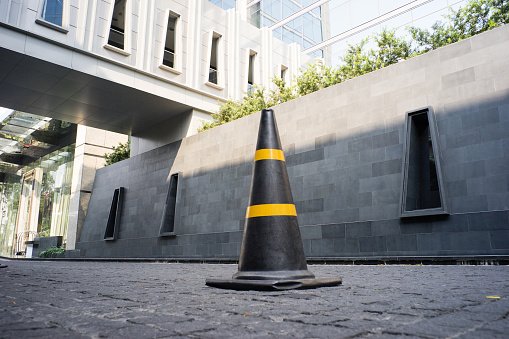trafficcone: (205, 108, 338, 288)
